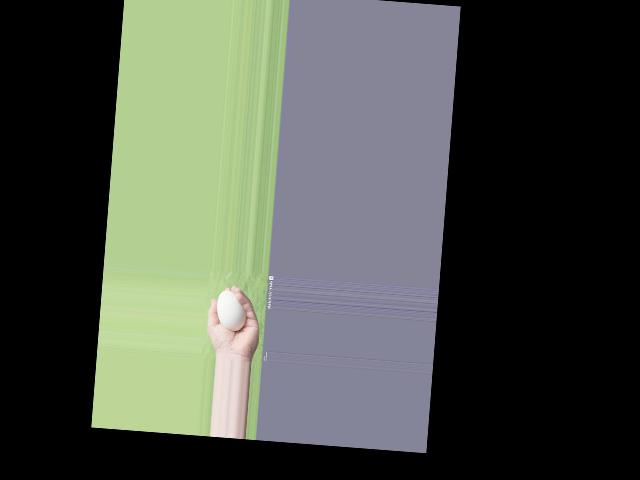egg: (215, 290, 248, 332)
